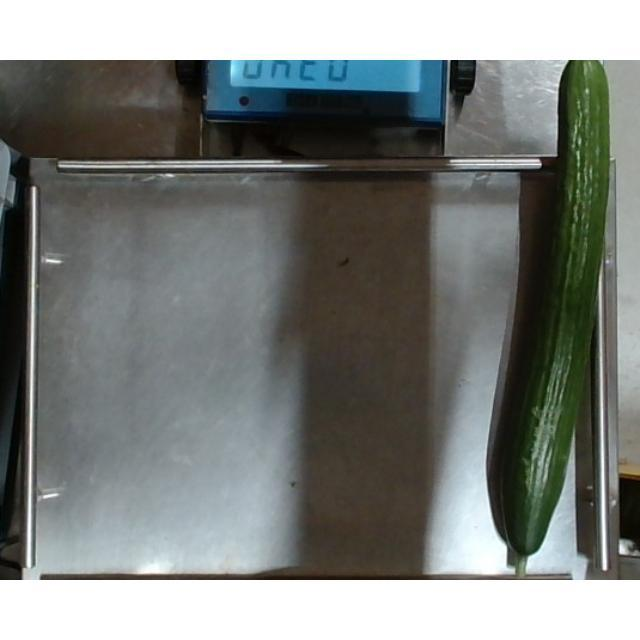cucumber: (486, 60, 612, 580)
